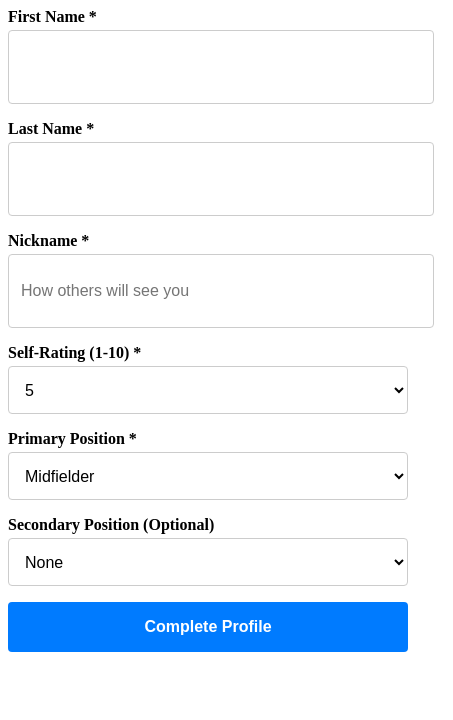
Test case: ProfileForm › clears errors when user starts typing
Note: Trigger validation error
Click the button "Complete Profile" at (208, 627), box [8, 602, 408, 652]
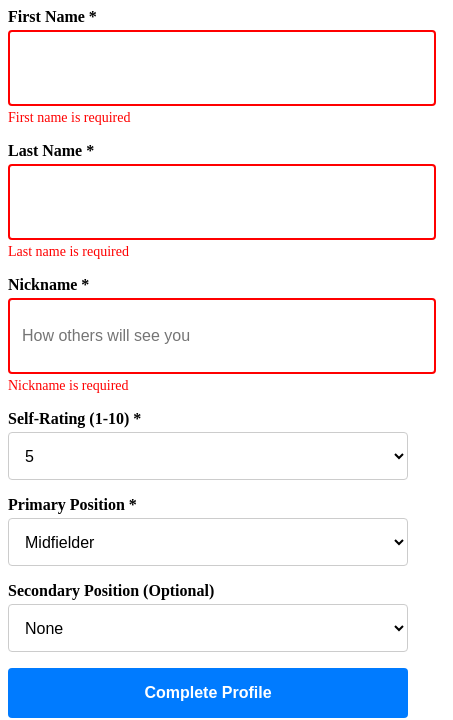
Result: the text "First name is required" is shown at [8, 110, 130, 125]
Note: Start typing
Type "J" into the field labelled "First Name *" at (222, 68), box [8, 30, 436, 106]
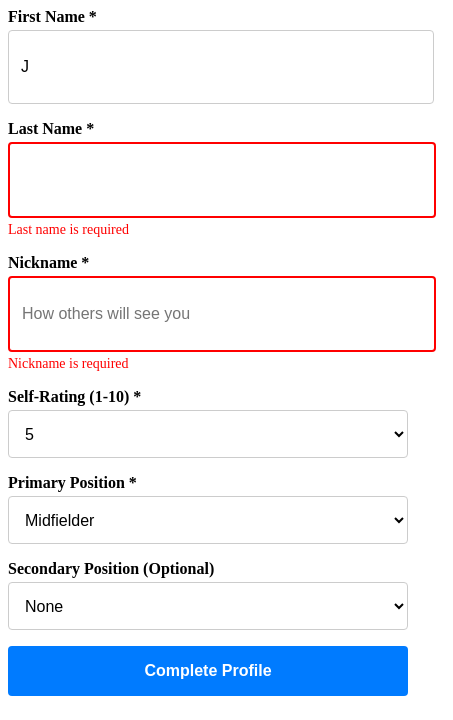
Result: the text "First name is required" is gone
